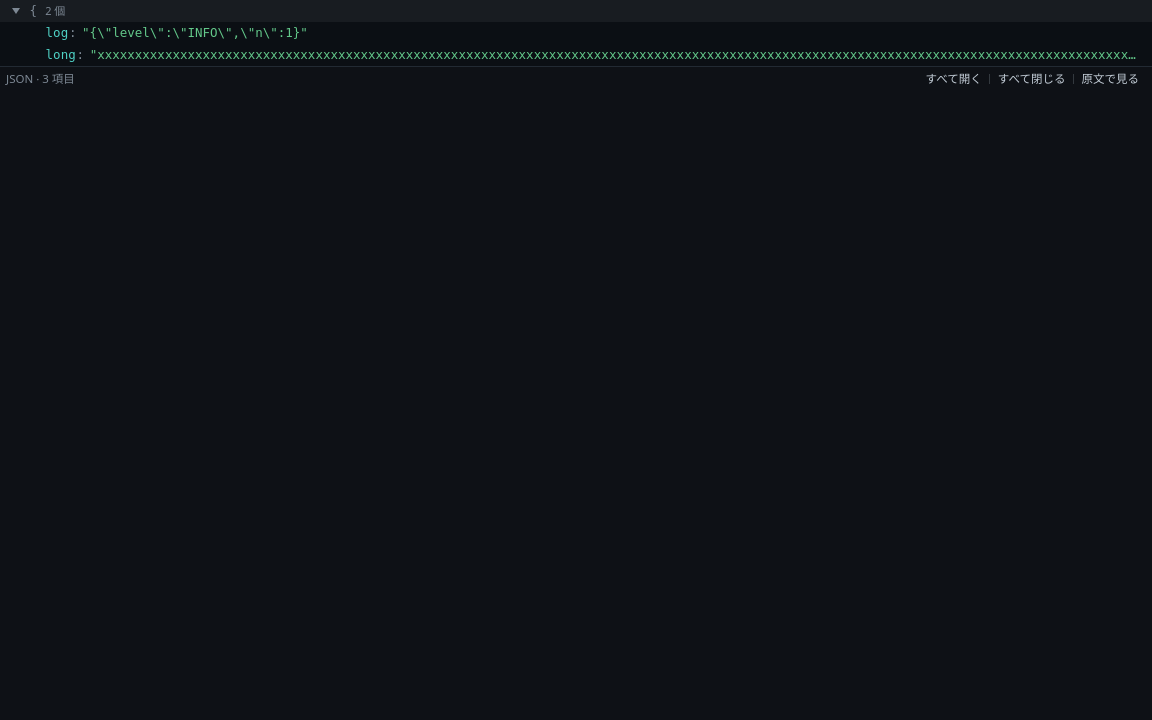
it: 行の選択と全文の小窓 › Enter で値の全文を小窓に出し、中が JSON の文字列は字下げする
Click the element with class "mg-json-row" that starts with "log".
click(177, 32)  # box 46,25 -> 308,40
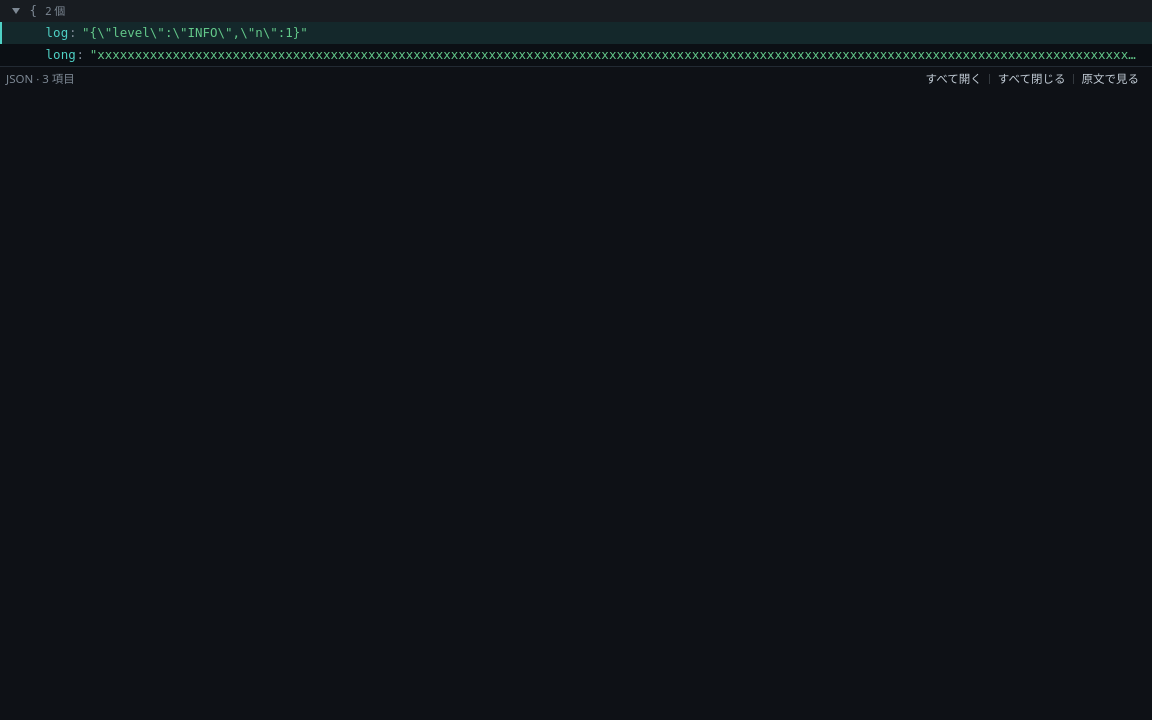
Press Enter in the element with class "mg-json", box 0,0 -> 1151,66
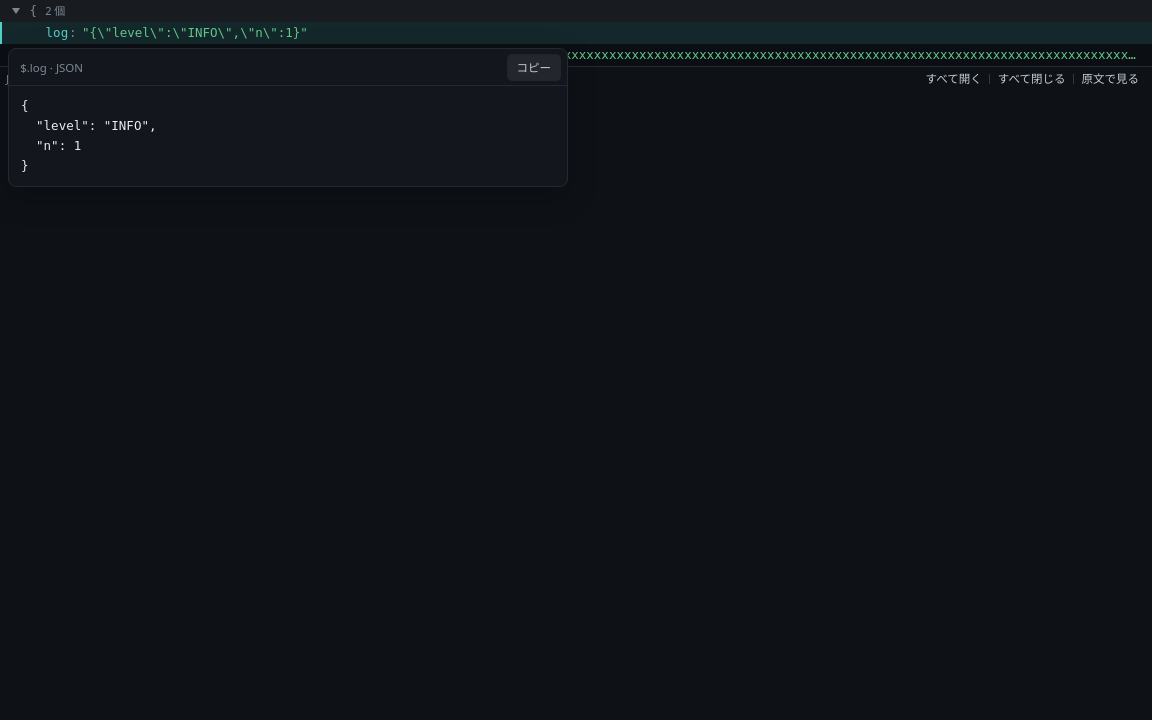
Check: the text with class "mg-csv-peek-label" reads "$.log · JSON", box 20,59 -> 83,76
Press ArrowDown in the element with class "mg-json", box 0,0 -> 1151,66
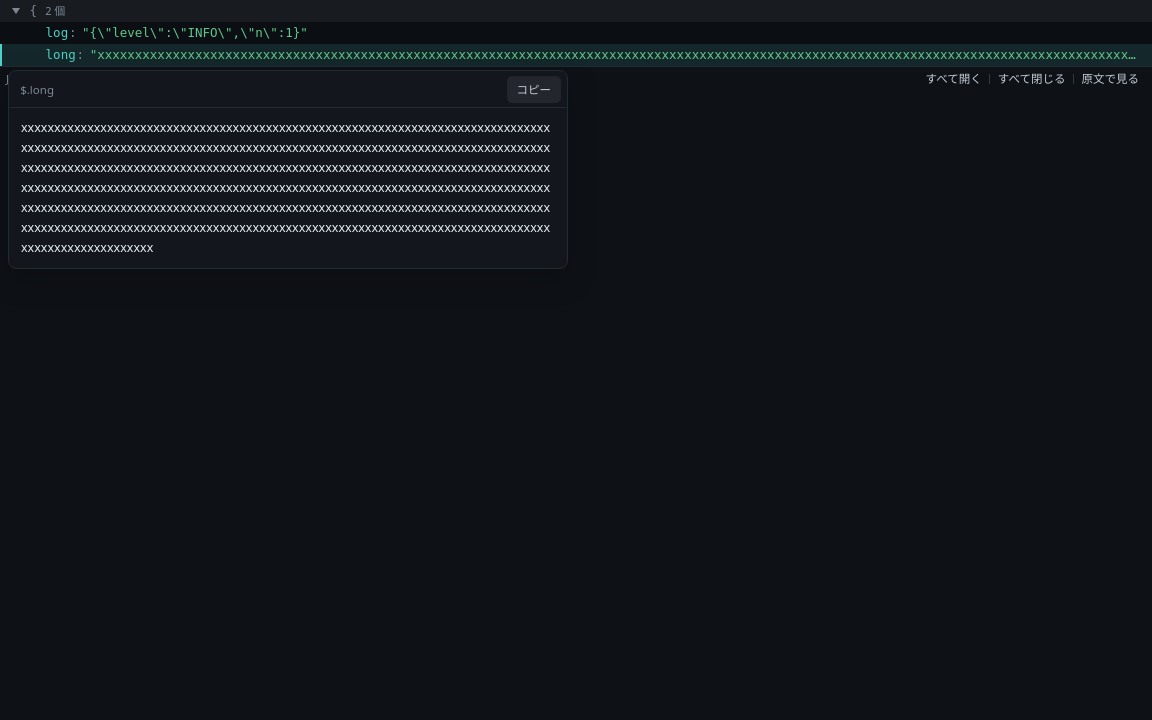
Press Escape in the element with class "mg-json", box 0,0 -> 1151,66
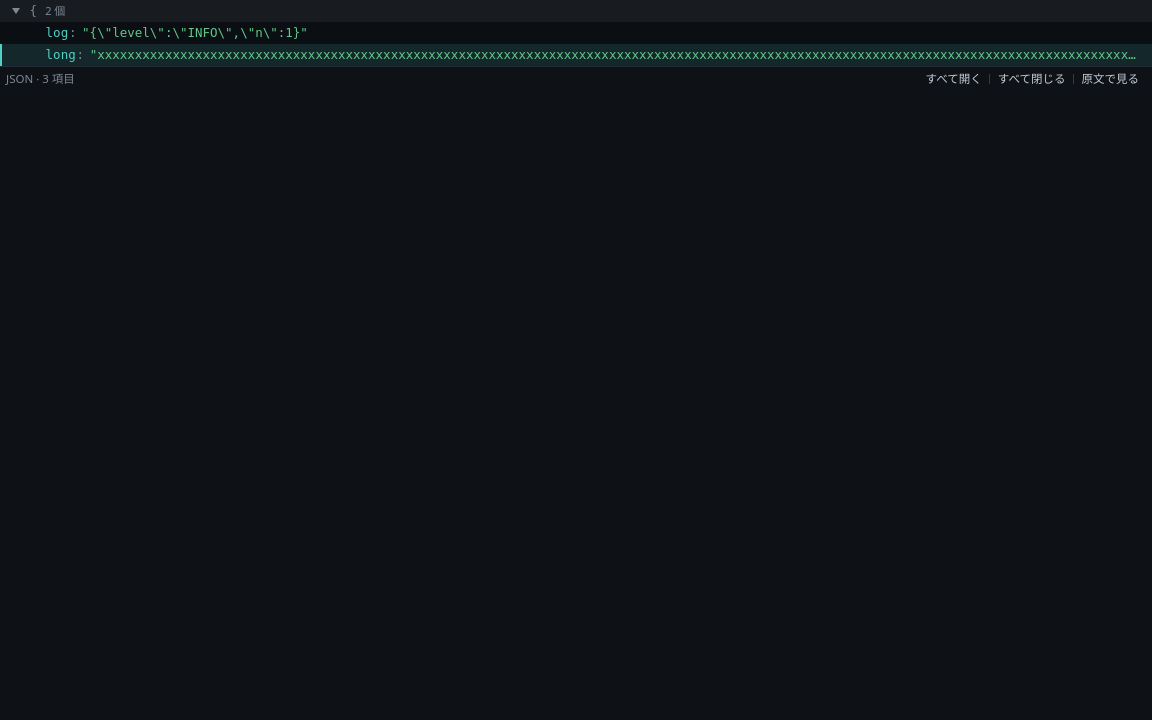
Check: the dialog with class "mg-csv-peek" is gone
